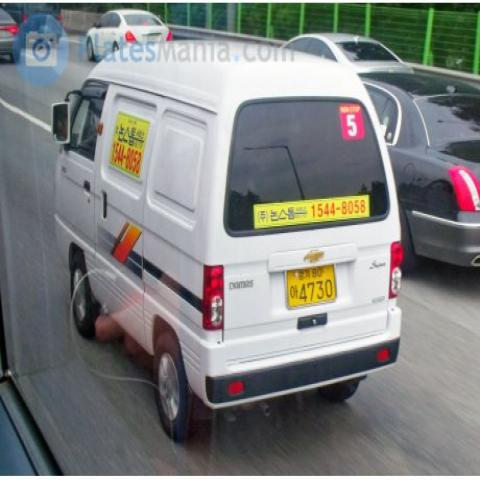LP: (278, 260, 346, 315)
